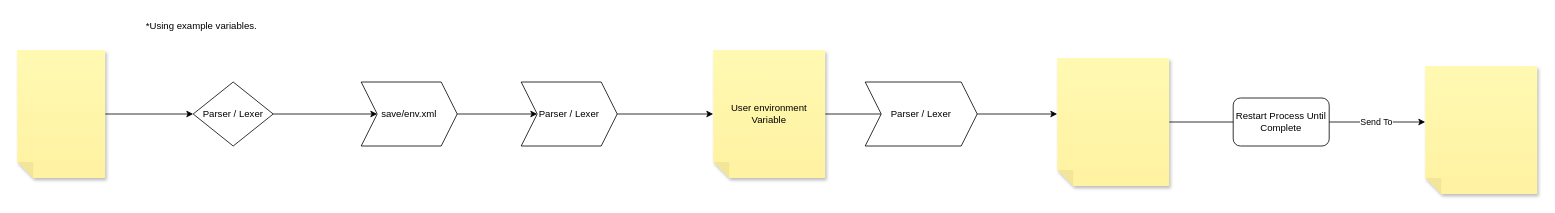
Some shapes in this 1555 by 213 pixel diagram are drawn without their labels. The centre of each missing label's shape, as x and y in pixels:
env.xml: (62,114)
Machine: (1482,130)
Temp env.xml: (1114,122)
